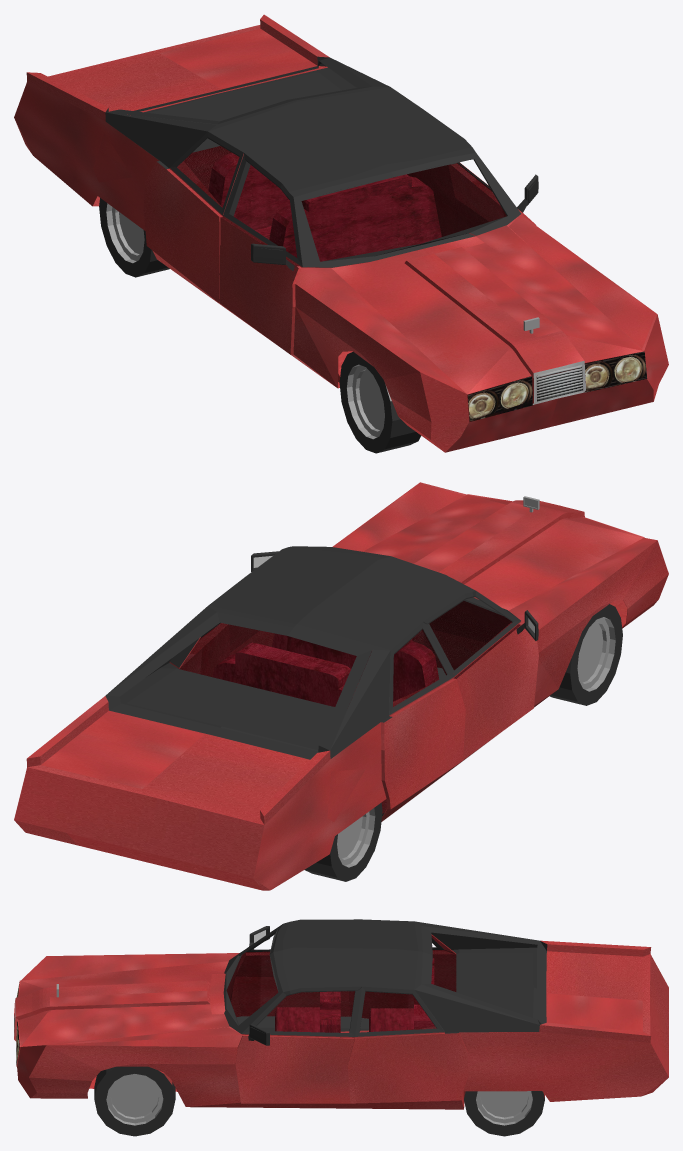
Rendered from car.glb.
3 renders of one model, top to bottom at view 1: azimuth 30°, elevation 25°; view 2: azimuth 150°, elevation 25°; view 3: azimuth 270°, elevation 25°, orthographic. The views are drawn at different scales.
Visible parts, largest first — view 1: Cube.003; view 2: Cube.003; view 3: Cube.003.
Boxes of the visible parts, box(x1,y1,x2,y2) form: Cube.003: box(14, 14, 668, 453); Cube.003: box(14, 482, 668, 890); Cube.003: box(14, 919, 668, 1136).
Bounding box in the file's own units: 9.24 × 5.87 × 23.91.
7 materials, 5 textured.
